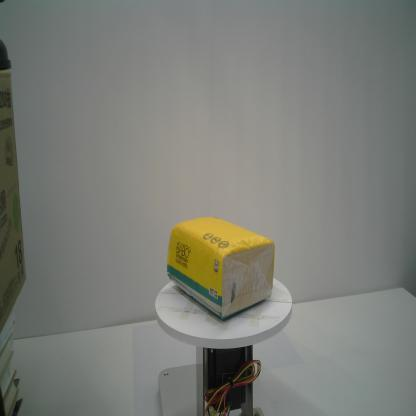Tissue: (164, 214, 276, 323)
